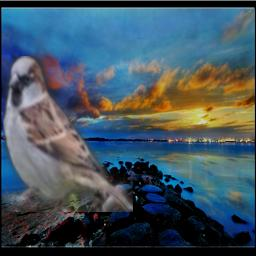Sparrow: (3, 56, 133, 212)
